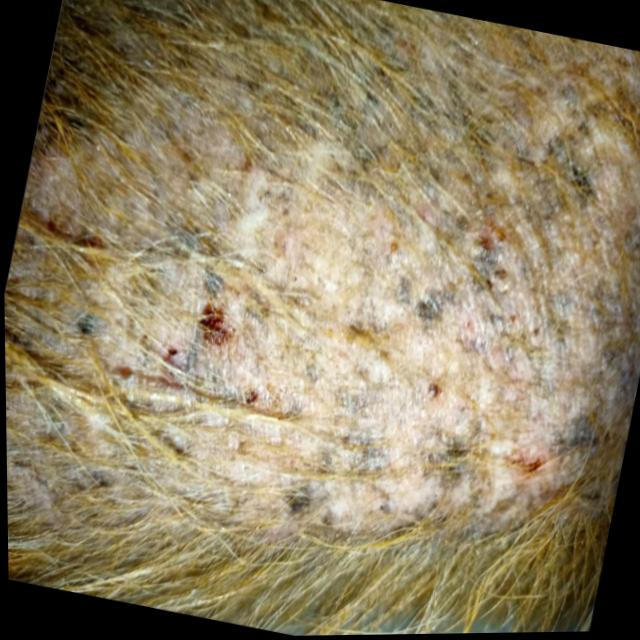demodicosis: (133, 107, 639, 572)
